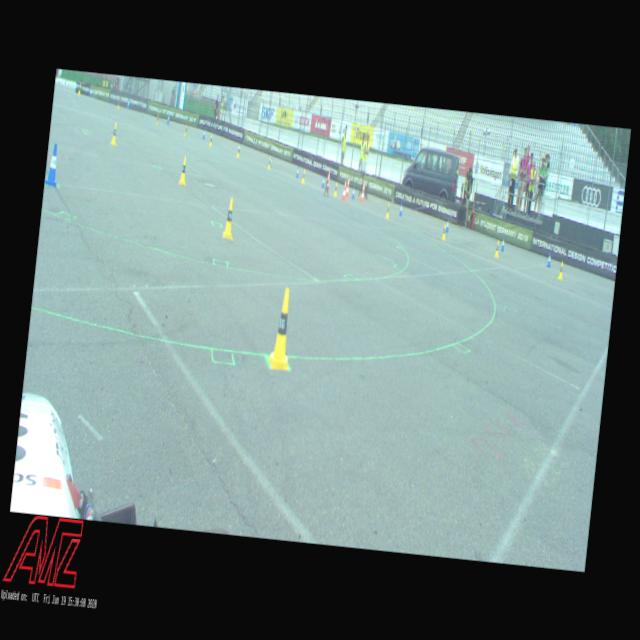blue_cone: (44, 142, 60, 185), (546, 252, 552, 266), (500, 236, 505, 250), (445, 219, 449, 232), (398, 202, 402, 215), (296, 166, 300, 177), (321, 176, 325, 187), (202, 128, 206, 139), (238, 142, 241, 154), (269, 156, 272, 168), (167, 114, 170, 123), (352, 186, 354, 198)
large_orange_cone: (324, 170, 330, 193), (341, 178, 347, 200), (360, 182, 366, 202), (345, 176, 350, 196)
yellow_cone: (266, 286, 296, 369), (222, 197, 236, 239), (178, 156, 188, 185), (110, 122, 118, 145), (558, 262, 564, 278), (494, 240, 499, 257), (441, 223, 446, 239), (333, 182, 338, 196), (386, 202, 390, 218), (236, 144, 240, 158), (267, 156, 271, 169), (184, 124, 188, 136), (208, 134, 212, 146), (301, 170, 305, 182), (156, 113, 158, 124)
